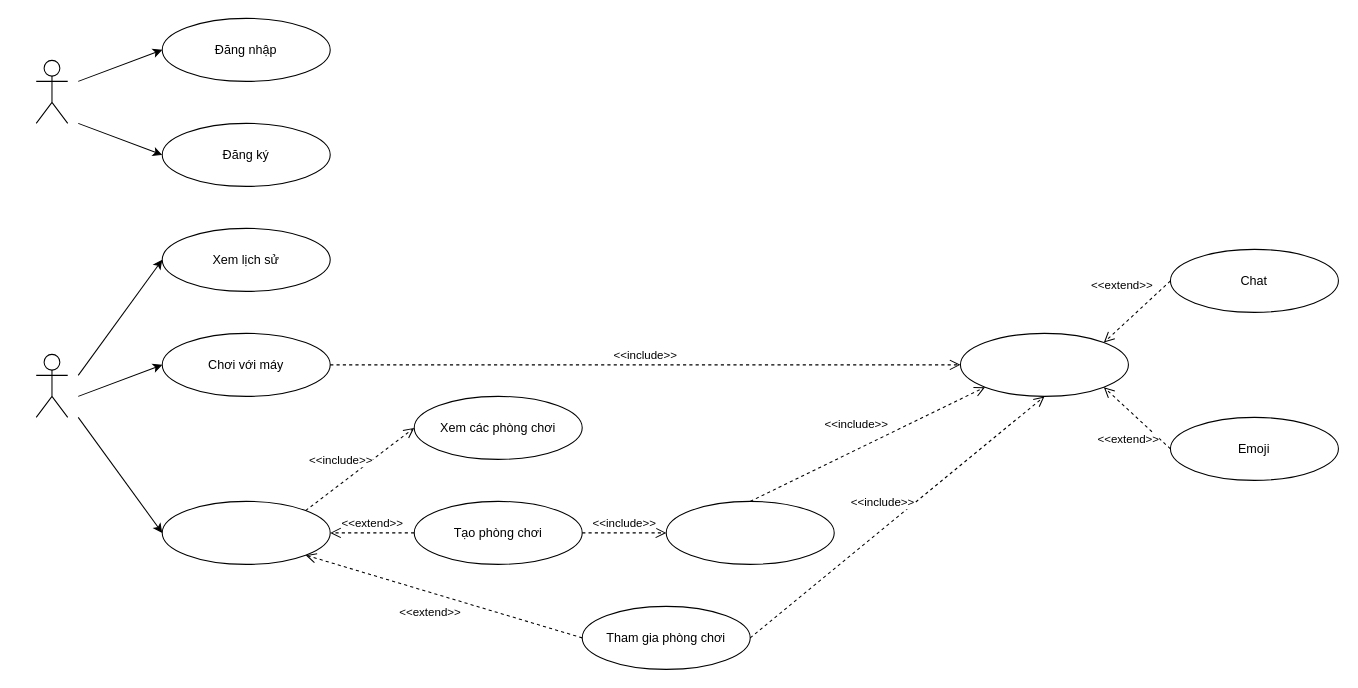
Image size: 1358x688. Some labels were removed from this diagram. Each missing label, with the centre of its shape:
"Chơi game" goes at (1043,364).
"Chơi với người" goes at (245,532).
"Người dùng" goes at (51,91).
"Thành viên" goes at (51,385).
"Đặt cược" goes at (749,532).
